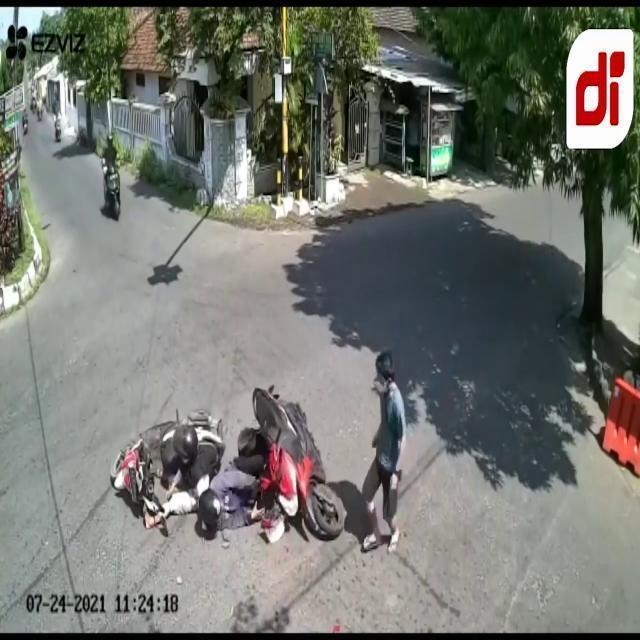accident: (110, 382, 350, 550)
non-accident: (20, 93, 46, 137)
